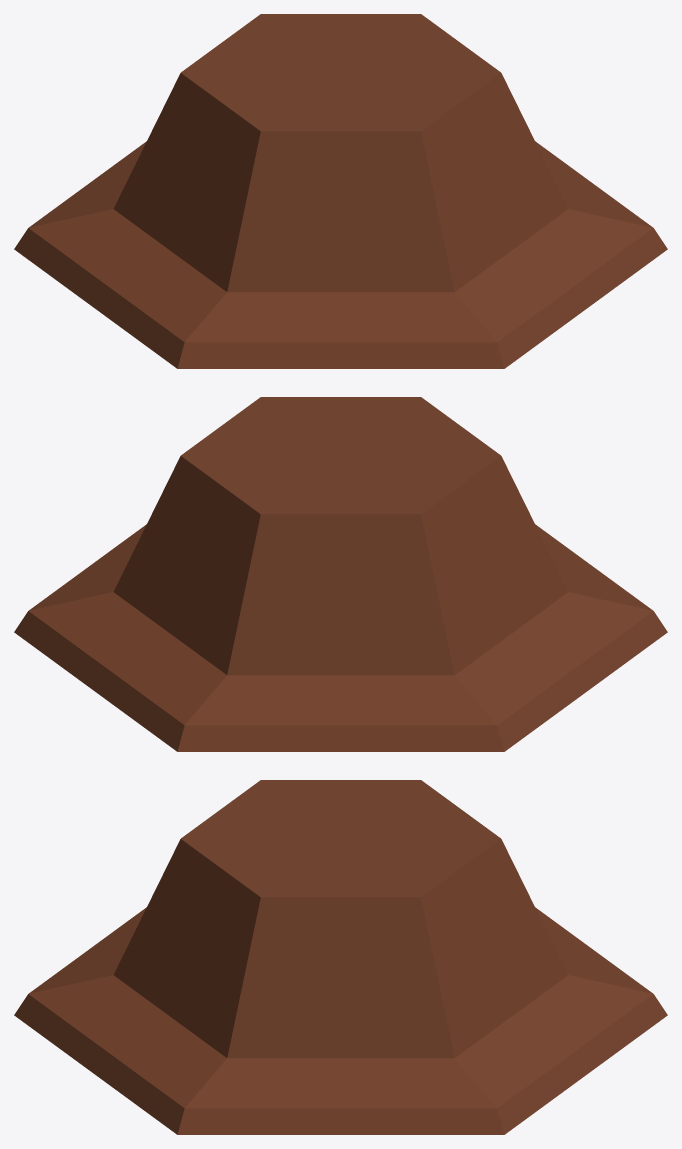
Rendered from hat2.fbx.
3 renders of one model, top to bottom at view 1: azimuth 30°, elevation 25°; view 2: azimuth 150°, elevation 25°; view 3: azimuth 270°, elevation 25°, orthographic.
Visible parts, largest first — view 1: Cylinder; view 2: Cylinder; view 3: Cylinder.
Part boxes in pixels (x1=…): Cylinder: x1=14, y1=14, x2=667, y2=368; Cylinder: x1=14, y1=397, x2=667, y2=751; Cylinder: x1=14, y1=780, x2=667, y2=1134.
Size of the model in its own units: 197 by 67.89 by 228.
